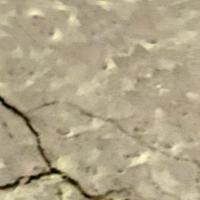crack: (0, 88, 130, 199)
